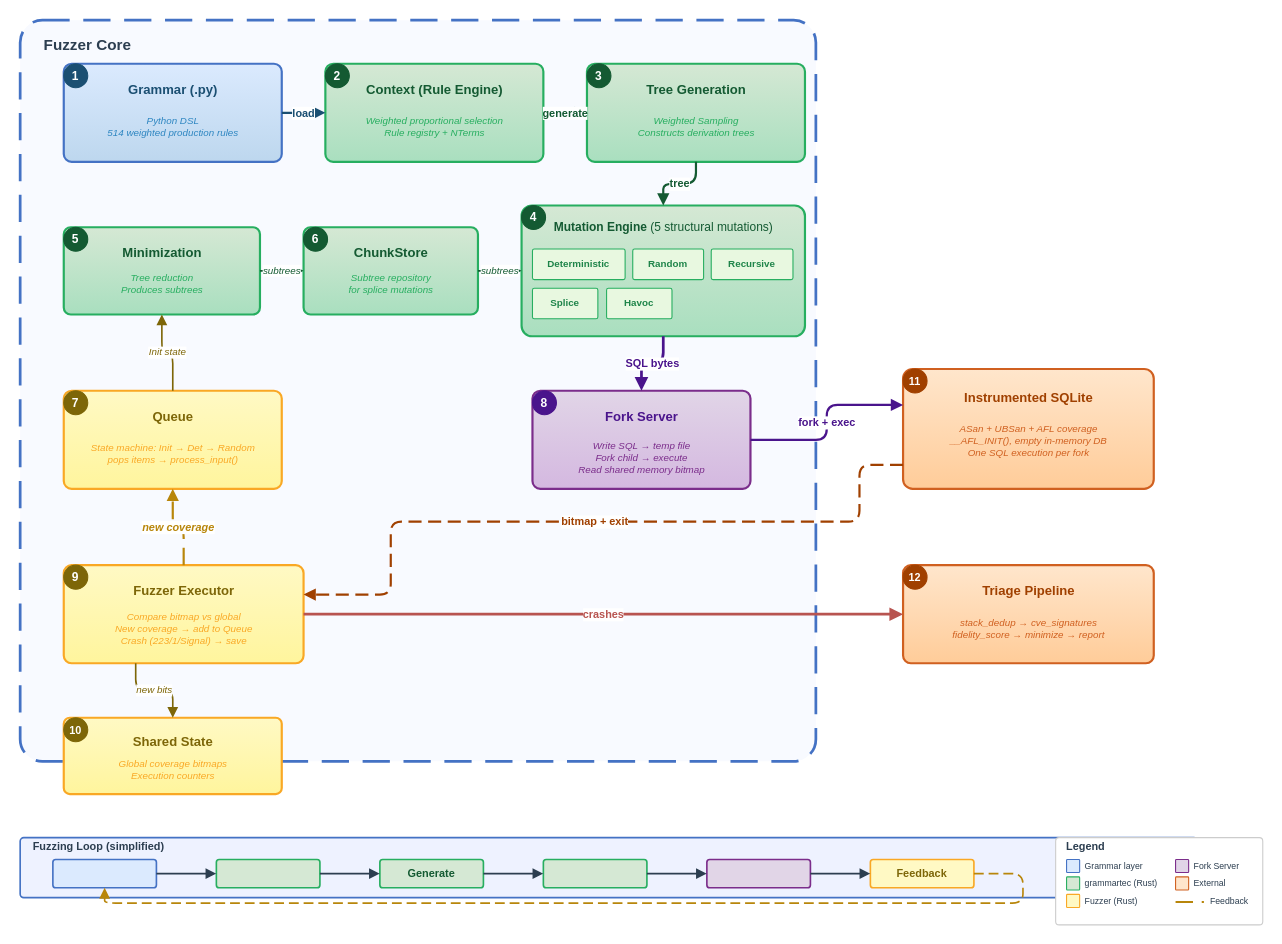
The diagram is 1282 pixels wide and 944 high, and some of its shapes have lost their labels. Here are the shapes that lost their labels. From the top down, the centre of each, then its label:
point 104,873: Grammar
point 267,873: Context
point 594,873: Mutate
point 758,873: Execute
